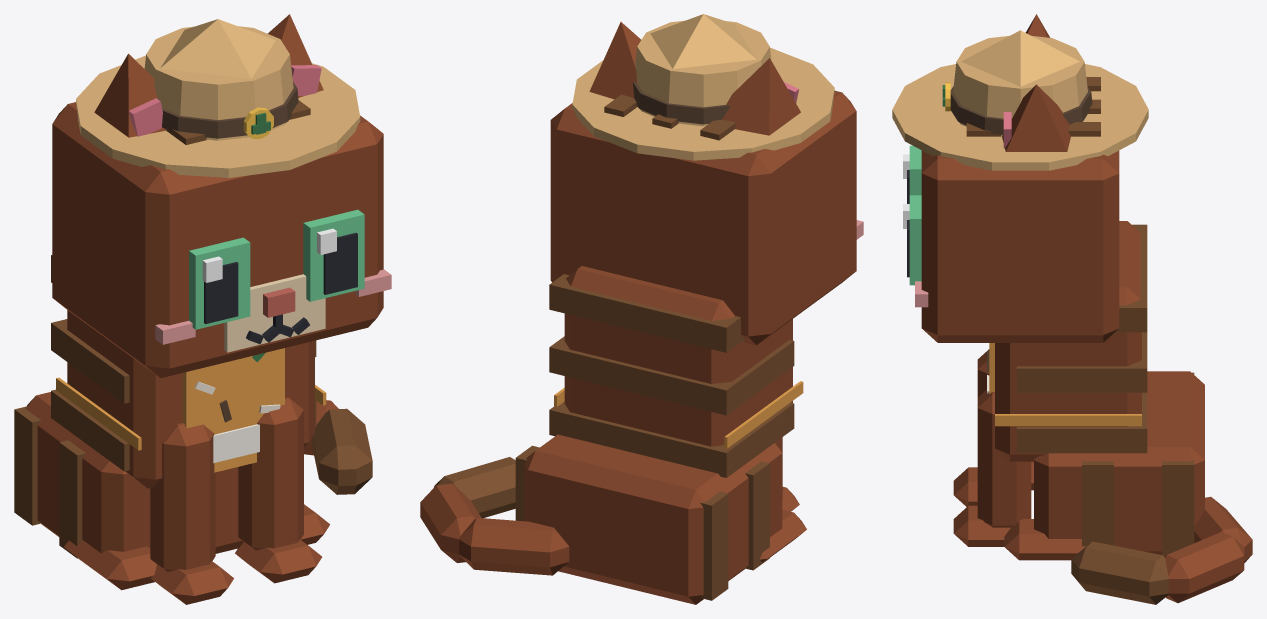
Rendered from CatCafe_NPC_Townsfolk_Camper.glb.
3 views of the same model, side by side, from view 1: azimuth 30°, elevation 25°; view 2: azimuth 150°, elevation 25°; view 3: azimuth 270°, elevation 25° (orthographic). The views are drawn at different scales.
Parts seen in each view (by area): view 1: CatCafe_NPC_Townsfolk_Camper_Head, CatCafe_NPC_Townsfolk_Camper_Body, CatCafe_NPC_Townsfolk_Camper_Prop, CatCafe_NPC_Townsfolk_Camper_LegF2, CatCafe_NPC_Townsfolk_Camper_LegF1, CatCafe_NPC_Townsfolk_Camper_Eye2, CatCafe_NPC_Townsfolk_Camper_Eye1, CatCafe_NPC_Townsfolk_Camper_Tail, CatCafe_NPC_Townsfolk_Camper_EarR, CatCafe_NPC_Townsfolk_Camper_EarL; view 2: CatCafe_NPC_Townsfolk_Camper_Body, CatCafe_NPC_Townsfolk_Camper_Head, CatCafe_NPC_Townsfolk_Camper_Prop, CatCafe_NPC_Townsfolk_Camper_Tail, CatCafe_NPC_Townsfolk_Camper_EarR, CatCafe_NPC_Townsfolk_Camper_EarL; view 3: CatCafe_NPC_Townsfolk_Camper_Body, CatCafe_NPC_Townsfolk_Camper_Head, CatCafe_NPC_Townsfolk_Camper_Prop, CatCafe_NPC_Townsfolk_Camper_Tail, CatCafe_NPC_Townsfolk_Camper_LegF1, CatCafe_NPC_Townsfolk_Camper_EarL, CatCafe_NPC_Townsfolk_Camper_Eye1, CatCafe_NPC_Townsfolk_Camper_LegF2, CatCafe_NPC_Townsfolk_Camper_Eye2.
Part boxes in pixels (x1,y1,x2,y2): CatCafe_NPC_Townsfolk_Camper_Head: (52,100,391,377); CatCafe_NPC_Townsfolk_Camper_Body: (14,255,329,590); CatCafe_NPC_Townsfolk_Camper_Prop: (76,19,360,177); CatCafe_NPC_Townsfolk_Camper_LegF2: (150,423,233,604); CatCafe_NPC_Townsfolk_Camper_LegF1: (235,397,321,583); CatCafe_NPC_Townsfolk_Camper_Eye2: (189,237,250,329); CatCafe_NPC_Townsfolk_Camper_Eye1: (303,209,364,301); CatCafe_NPC_Townsfolk_Camper_Tail: (304,400,372,494); CatCafe_NPC_Townsfolk_Camper_EarR: (94,53,165,137); CatCafe_NPC_Townsfolk_Camper_EarL: (267,14,323,97); CatCafe_NPC_Townsfolk_Camper_Body: (515,266,806,604); CatCafe_NPC_Townsfolk_Camper_Head: (550,90,863,345); CatCafe_NPC_Townsfolk_Camper_Prop: (572,14,834,160); CatCafe_NPC_Townsfolk_Camper_Tail: (420,457,569,575); CatCafe_NPC_Townsfolk_Camper_EarR: (722,58,800,135); CatCafe_NPC_Townsfolk_Camper_EarL: (589,22,641,99); CatCafe_NPC_Townsfolk_Camper_Body: (987,221,1204,560); CatCafe_NPC_Townsfolk_Camper_Head: (915,77,1119,342); CatCafe_NPC_Townsfolk_Camper_Prop: (892,30,1148,170); CatCafe_NPC_Townsfolk_Camper_Tail: (1071,496,1252,604); CatCafe_NPC_Townsfolk_Camper_LegF1: (953,390,1031,546); CatCafe_NPC_Townsfolk_Camper_EarL: (1002,84,1070,151); CatCafe_NPC_Townsfolk_Camper_Eye1: (903,195,921,285); CatCafe_NPC_Townsfolk_Camper_LegF2: (953,349,989,506); CatCafe_NPC_Townsfolk_Camper_Eye2: (903,145,921,203).
Size of the model in its own units: 1.25 by 1.92 by 1.28.
Materials: 1 (1 with a texture image).
